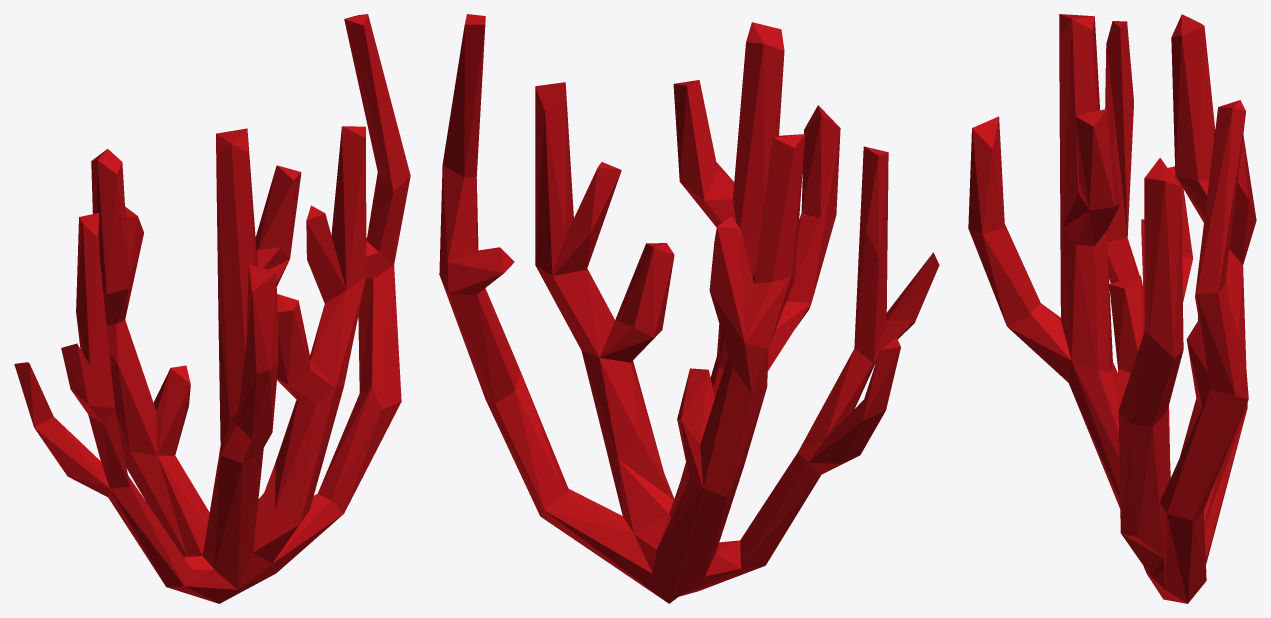
File: Coral_03.fbx
3 renders of one model, left to right at view 1: azimuth 30°, elevation 25°; view 2: azimuth 150°, elevation 25°; view 3: azimuth 270°, elevation 25°, orthographic. The views are drawn at different scales.
Visible parts, largest first — view 1: Coral_03; view 2: Coral_03; view 3: Coral_03.
Boxes of the visible parts, <box> form: Coral_03: <box>14,14,410,603</box>; Coral_03: <box>439,14,939,603</box>; Coral_03: <box>968,14,1256,603</box>.
Size of the model in its own units: 391 by 475 by 216.
